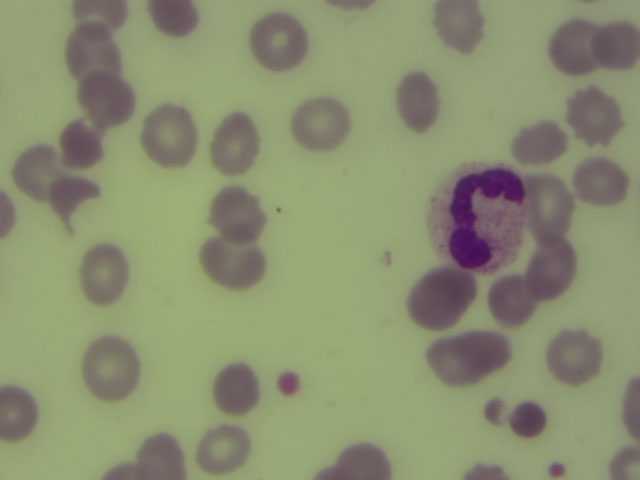Platelets: (271, 367, 305, 402), (541, 456, 573, 480)
RBC: (520, 172, 573, 243), (548, 16, 605, 74), (436, 334, 503, 383), (413, 273, 469, 326), (524, 244, 580, 297), (573, 156, 629, 209), (567, 92, 623, 145), (390, 73, 446, 126), (292, 98, 348, 151), (194, 422, 250, 475), (208, 361, 264, 414), (135, 427, 191, 480), (204, 235, 260, 288), (207, 187, 263, 240), (205, 116, 261, 169), (250, 14, 306, 67), (142, 108, 198, 161), (82, 341, 138, 394), (75, 248, 131, 301), (13, 148, 69, 201), (79, 72, 135, 125), (64, 29, 120, 82), (544, 330, 600, 383), (429, 1, 485, 52), (335, 437, 392, 480), (56, 121, 108, 167), (594, 22, 640, 72), (511, 121, 565, 162), (491, 278, 538, 324), (1, 384, 37, 441), (70, 1, 130, 35), (144, 1, 200, 37), (603, 443, 640, 480)
WBC: (427, 160, 524, 272)
